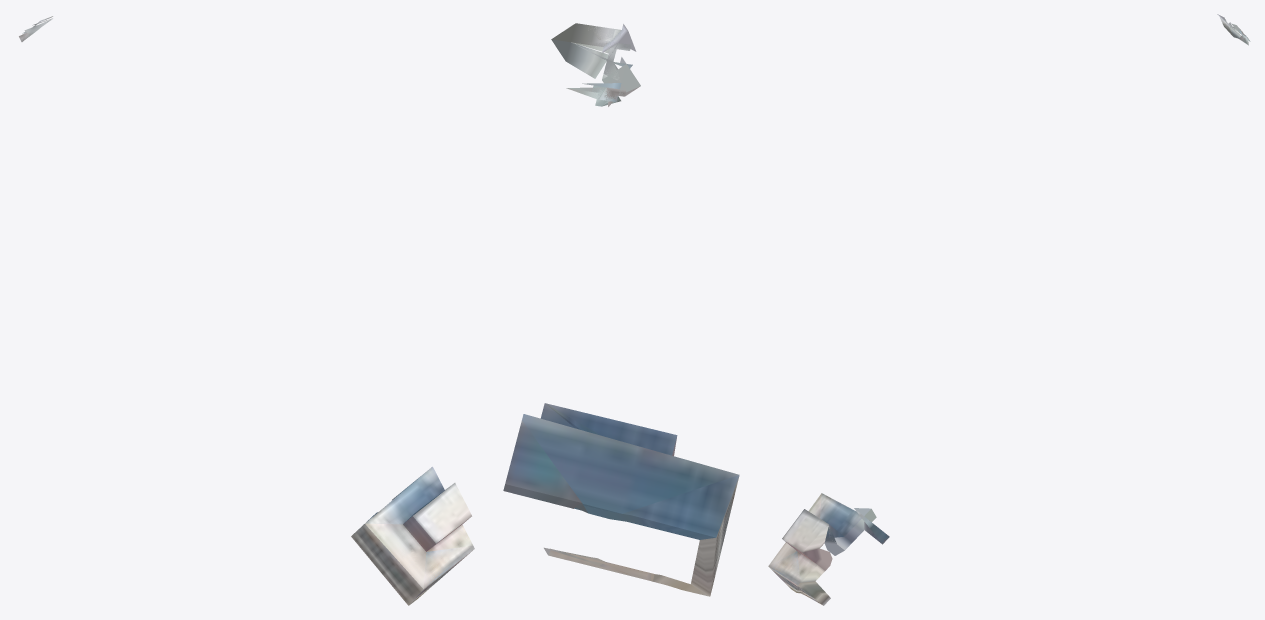
Rendered from AJVsH2x92jkDj-VBiZlbE6aWbNTpKFiCc4iKVToHO5OzAfUUSh86GiWOBU4qlwoirT0EE0uzCT2y-Vy394XaJQ3IT4FAAgYGammlvqWRMGXefglXjOVbPNGPbhFzqlP9FIkb1XJFYqKgUYXXy253kly0A4sbDDPoyQ.glb.
The picture shows the model from 3 angles, left to right: view 1: azimuth 30°, elevation 25°; view 2: azimuth 150°, elevation 25°; view 3: azimuth 270°, elevation 25°; orthographic projection. The views are drawn at different scales.
Size of the model in its own units: 102 by 186 by 165.
1 material, 1 textured.
